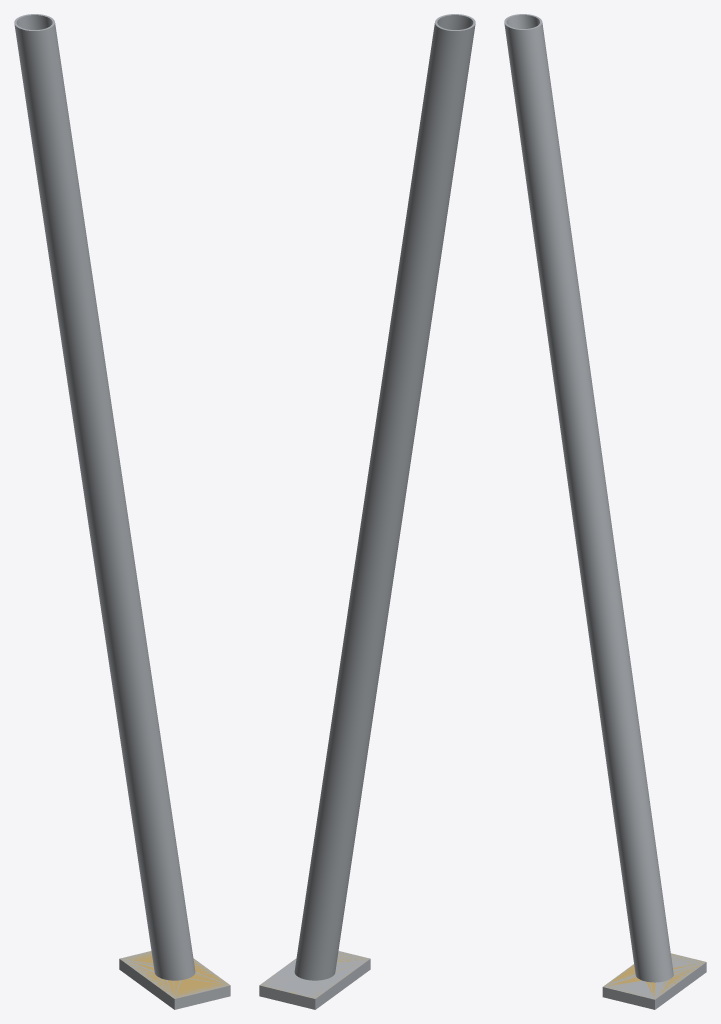
Rendered from step_02.glb.
3 views of the same model, side by side, from view 1: azimuth 30°, elevation 25°; view 2: azimuth 150°, elevation 25°; view 3: azimuth 330°, elevation 25° (orthographic). The views are drawn at different scales.
Parts seen in each view (by area): view 1: part__tripod leg, added__tripod leg; view 2: part__tripod leg; view 3: part__tripod leg, added__tripod leg.
Boxes of the visible parts, <box> form: part__tripod leg: <box>14,14,230,1009</box>; added__tripod leg: <box>121,951,228,998</box>; part__tripod leg: <box>259,14,475,1009</box>; part__tripod leg: <box>504,14,706,1009</box>; added__tripod leg: <box>604,953,705,999</box>.
Bounding box in the file's own units: 179 × 914 × 92.
